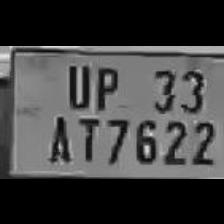2: (186, 115, 216, 165), (159, 116, 187, 164)
3: (176, 64, 206, 112), (148, 62, 176, 110)
6: (131, 114, 159, 164)
7: (100, 112, 128, 166)
A: (43, 110, 73, 164)
P: (90, 60, 120, 108)
T: (72, 112, 102, 162)
U: (60, 57, 92, 106)
